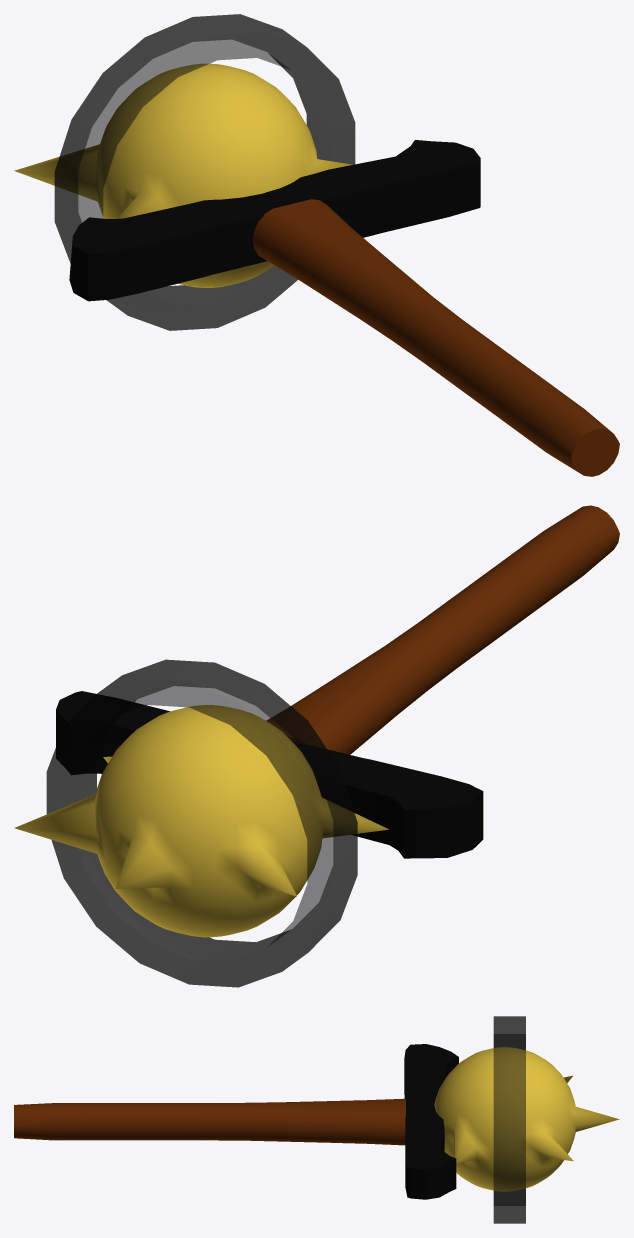
File: MaseWorking.FBX
The picture shows the model from 3 angles, top to bottom: view 1: azimuth 30°, elevation 25°; view 2: azimuth 150°, elevation 25°; view 3: azimuth 270°, elevation 25°; orthographic projection. The views are drawn at different scales.
Parts seen in each view (by area): view 1: Cylinder001; view 2: Cylinder001; view 3: Cylinder001.
Boxes of the visible parts, x1,y1,x2,y2 form: Cylinder001: (14, 14, 619, 476); Cylinder001: (14, 505, 619, 987); Cylinder001: (14, 1016, 619, 1223).
Size of the model in its own units: 52.62 by 36.83 by 107.
